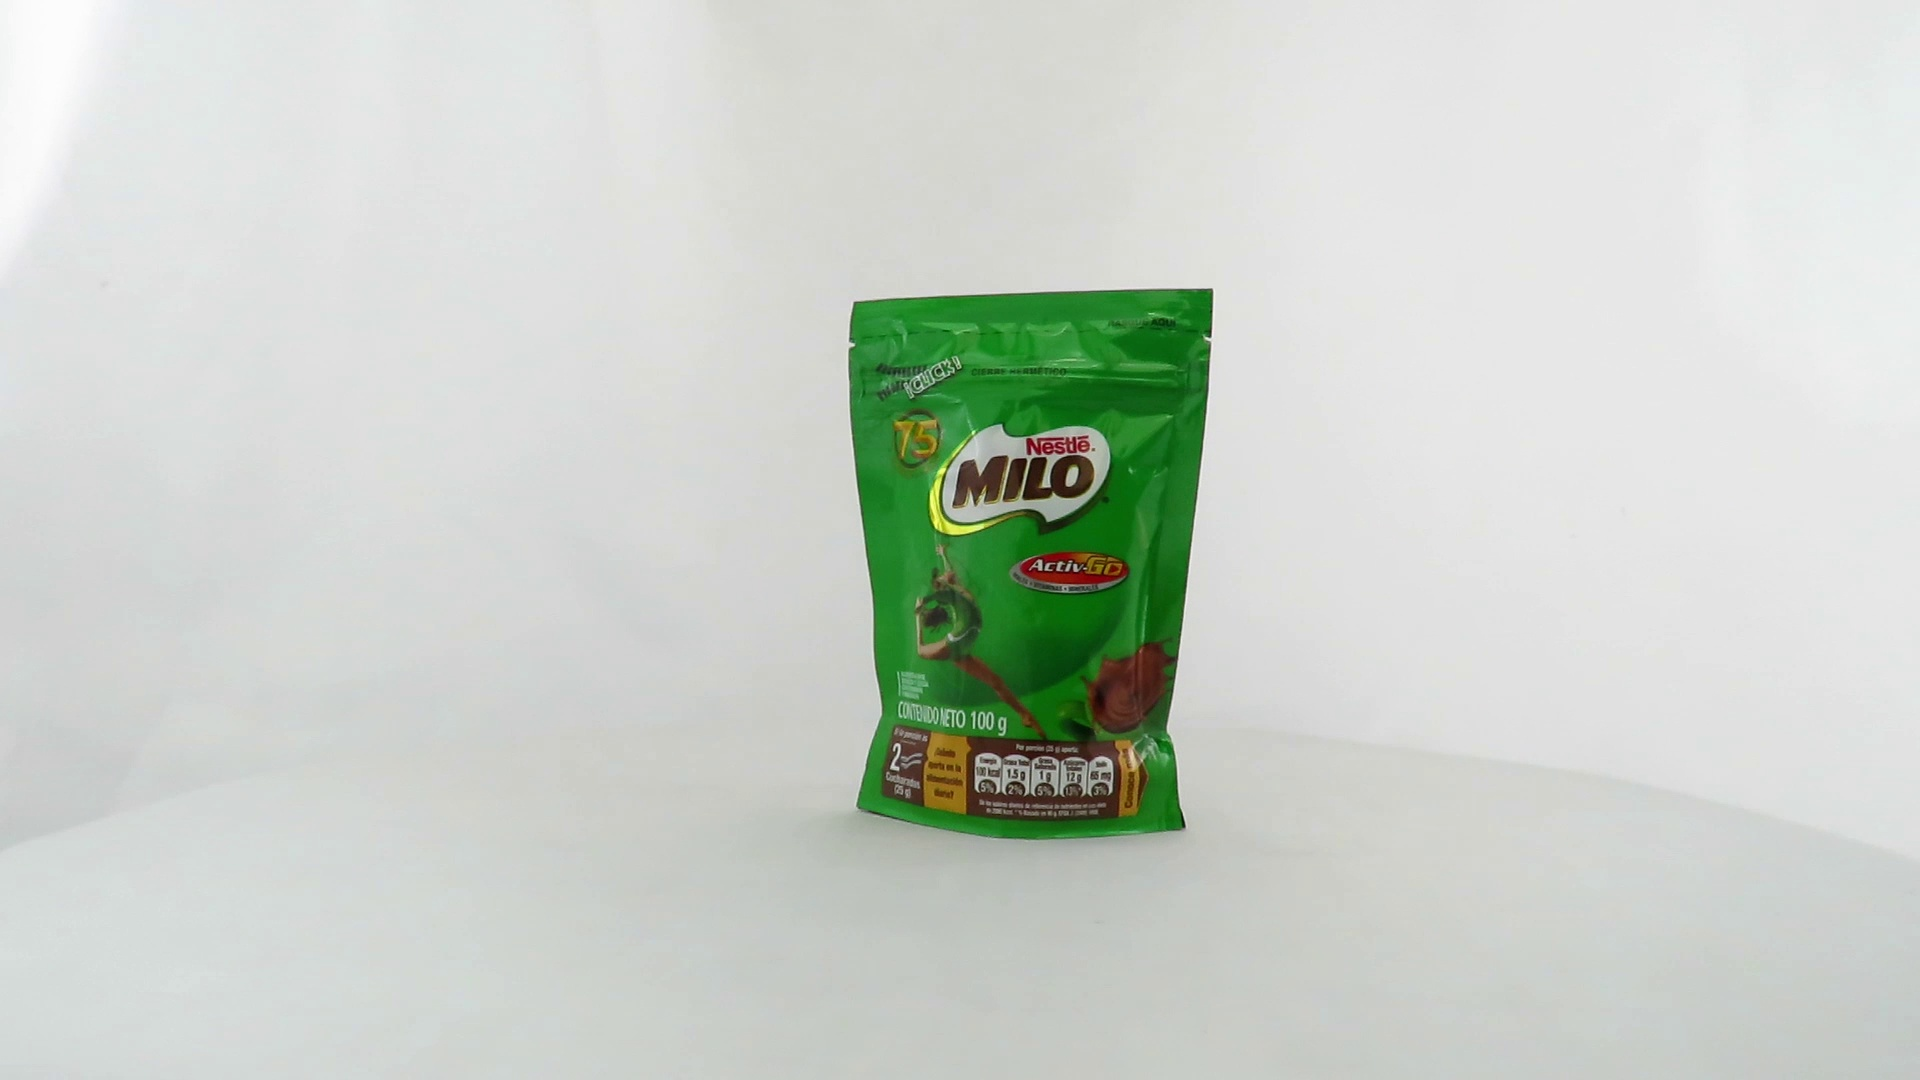COL0170203DYP10000: (843, 284, 1220, 847)
